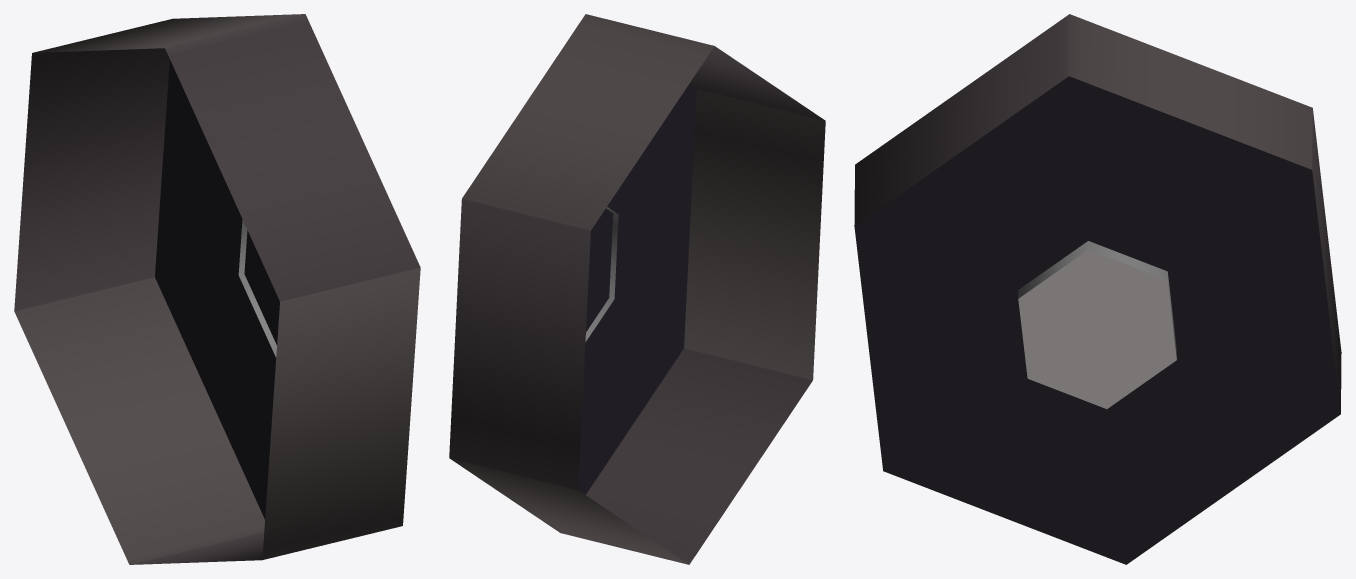
File: tyre.FBX
3 views of the same model, side by side, from view 1: azimuth 30°, elevation 25°; view 2: azimuth 150°, elevation 25°; view 3: azimuth 270°, elevation 25° (orthographic). The views are drawn at different scales.
Visible parts, largest first — view 1: Object003; view 2: Object003; view 3: Object003.
Part boxes in pixels (bbox=[...]): Object003: bbox=[14, 14, 420, 564]; Object003: bbox=[449, 14, 825, 564]; Object003: bbox=[854, 14, 1341, 564].
Size of the model in its own units: 1.36 by 4.27 by 3.84.
